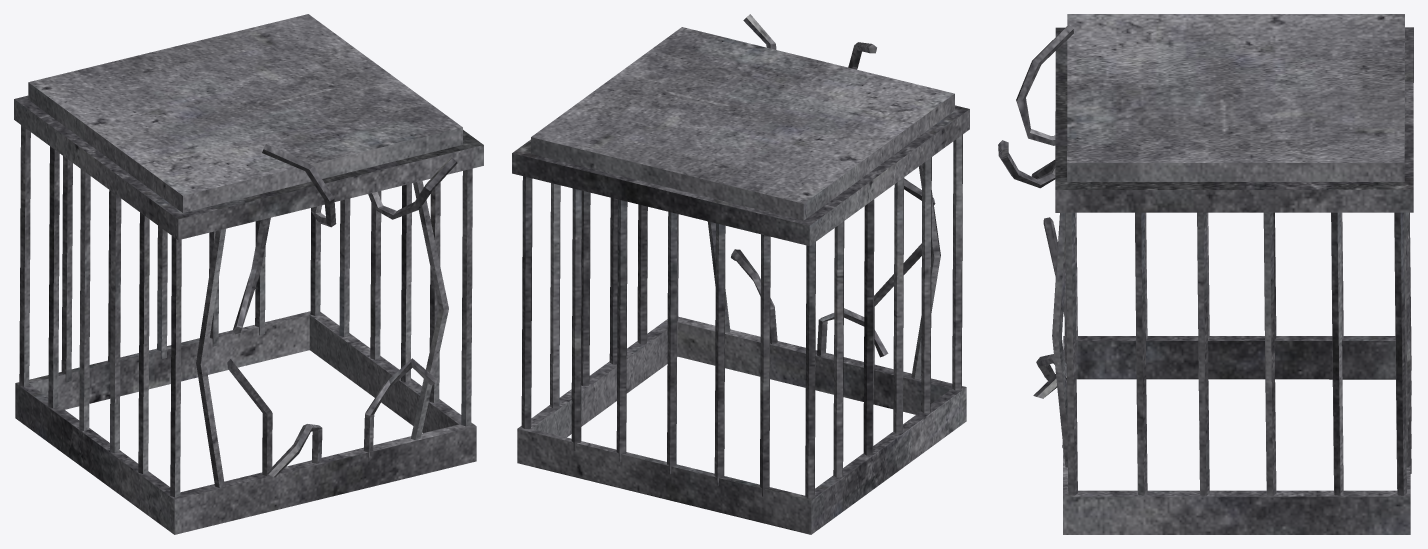
3 views of the same model, side by side, from view 1: azimuth 30°, elevation 25°; view 2: azimuth 150°, elevation 25°; view 3: azimuth 270°, elevation 25° (orthographic). The views are drawn at different scales.
Parts seen in each view (by area): view 1: uploads_files_968817_BadCages_V01; view 2: uploads_files_968817_BadCages_V01; view 3: uploads_files_968817_BadCages_V01.
Part boxes in pixels (x1,y1,x2,y2): uploads_files_968817_BadCages_V01: [14, 14, 483, 534]; uploads_files_968817_BadCages_V01: [512, 14, 969, 534]; uploads_files_968817_BadCages_V01: [998, 14, 1413, 534].
Bounding box in the file's own units: 31.51 × 36.06 × 34.01.
1 material, 1 textured.
